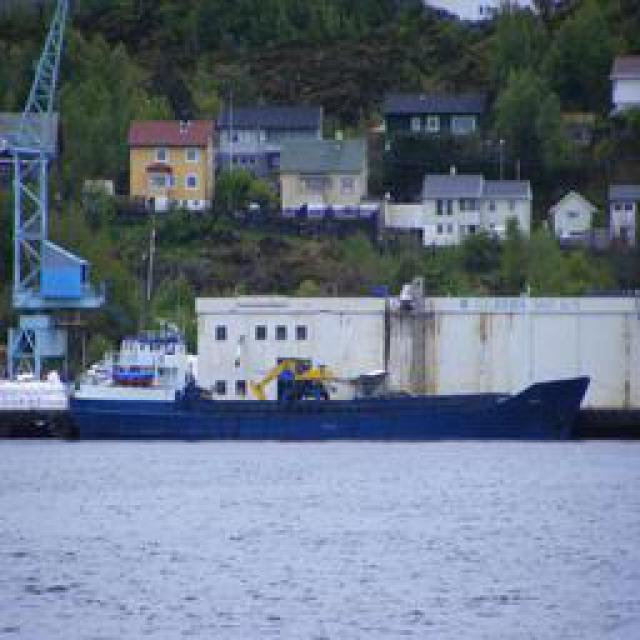Ship: (54, 360, 584, 443)
